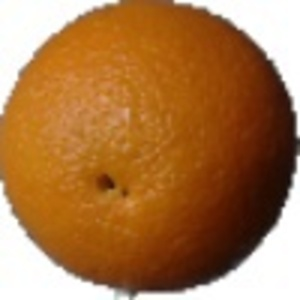laranja: (3, 3, 297, 298)
